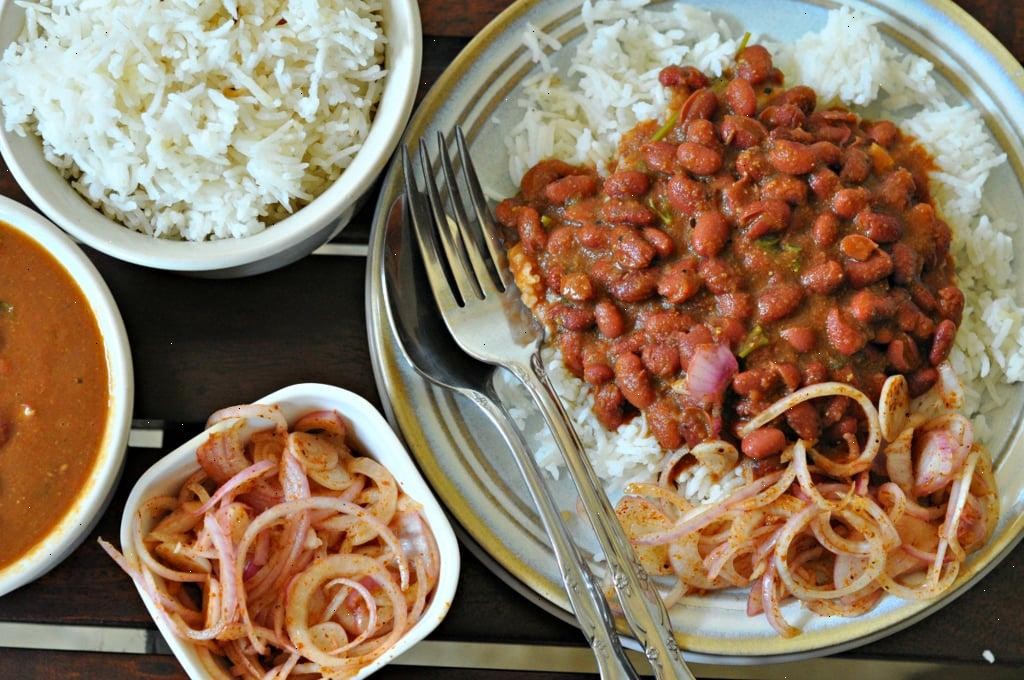rajma: (522, 112, 937, 400)
rice: (0, 0, 367, 222), (4, 0, 334, 222)
salad: (651, 427, 987, 615), (161, 451, 413, 665)
